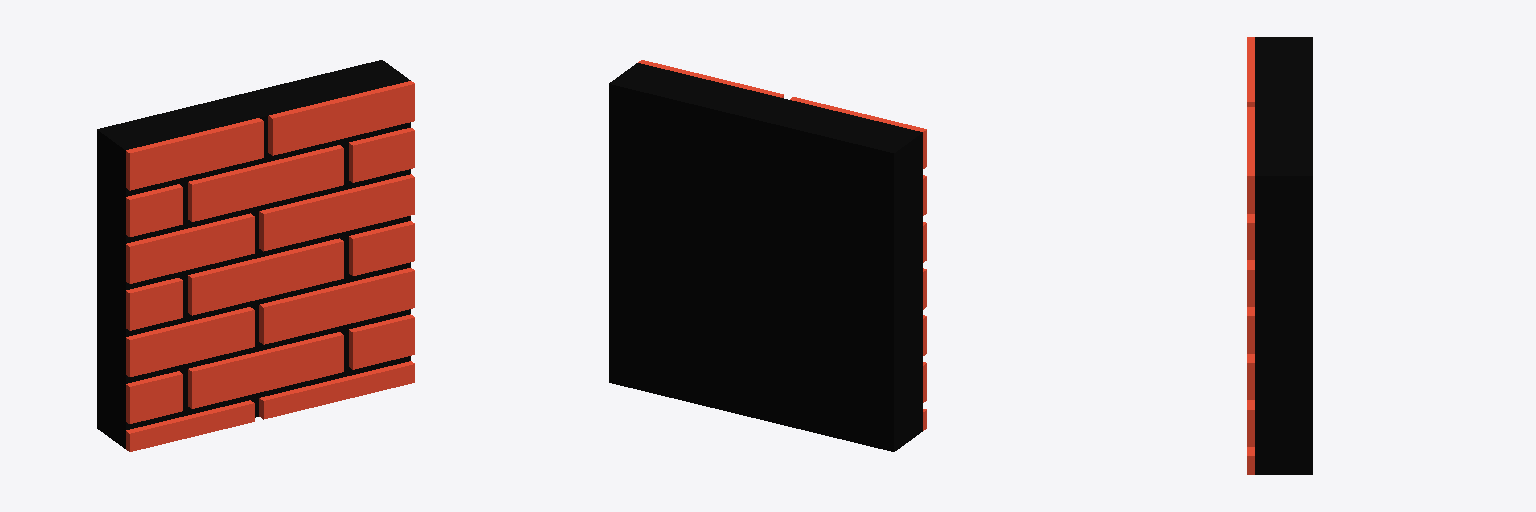
The picture shows the model from 3 angles: view 1: azimuth 30°, elevation 25°; view 2: azimuth 150°, elevation 25°; view 3: azimuth 270°, elevation 25°; orthographic projection.
Parts seen in each view (by area): view 1: Object.1; view 2: Object.1; view 3: Object.1.
Boxes of the visible parts, <box> form: Object.1: <box>97,60,414,451</box>; Object.1: <box>609,60,926,451</box>; Object.1: <box>1247,37,1312,474</box>.
Size of the model in its own units: 0.9996 by 0.9996 by 0.2.
1 materials, 1 textured.